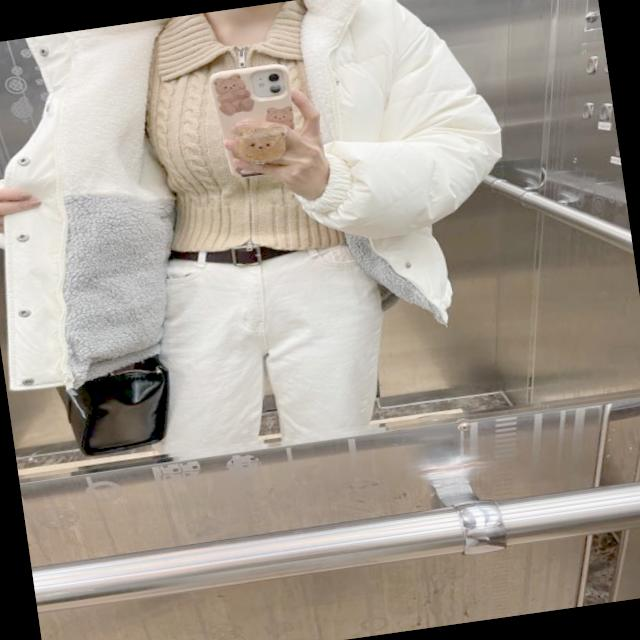cardigan: (130, 0, 358, 272)
cottonpants: (142, 230, 401, 452)
padding: (0, 0, 544, 398)
